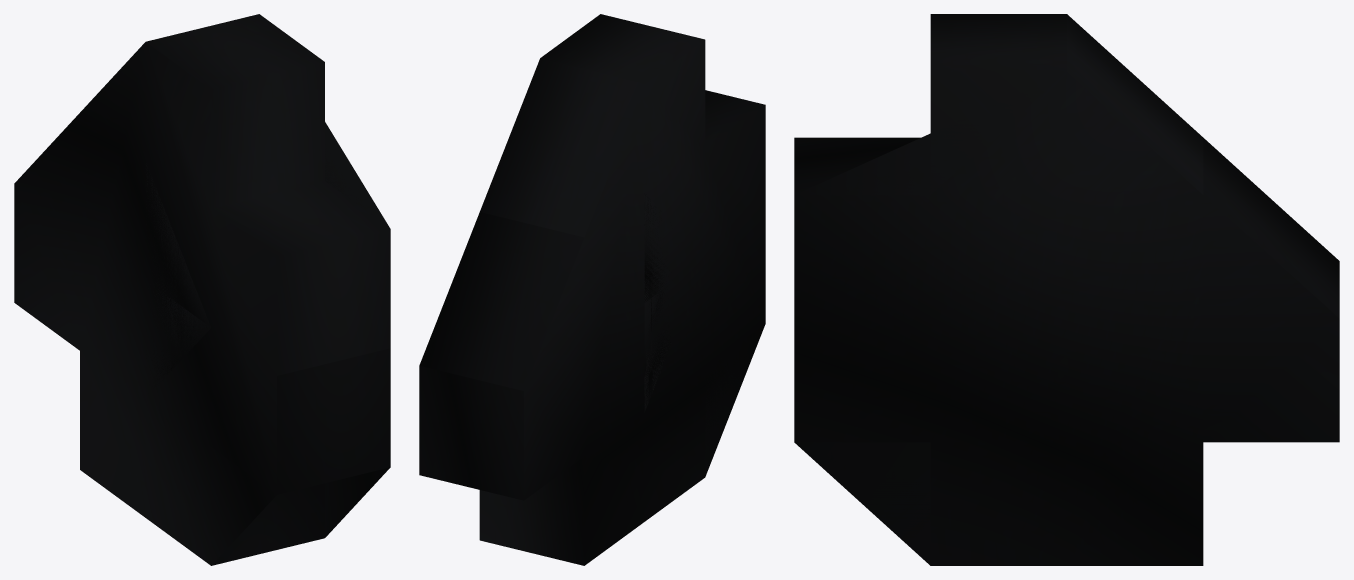
3 views of the same model, side by side, from view 1: azimuth 30°, elevation 25°; view 2: azimuth 150°, elevation 25°; view 3: azimuth 270°, elevation 25° (orthographic). The views are drawn at different scales.
Size of the model in its own units: 0.24 by 0.96 by 0.96.
Materials: 1 (1 with a texture image).
